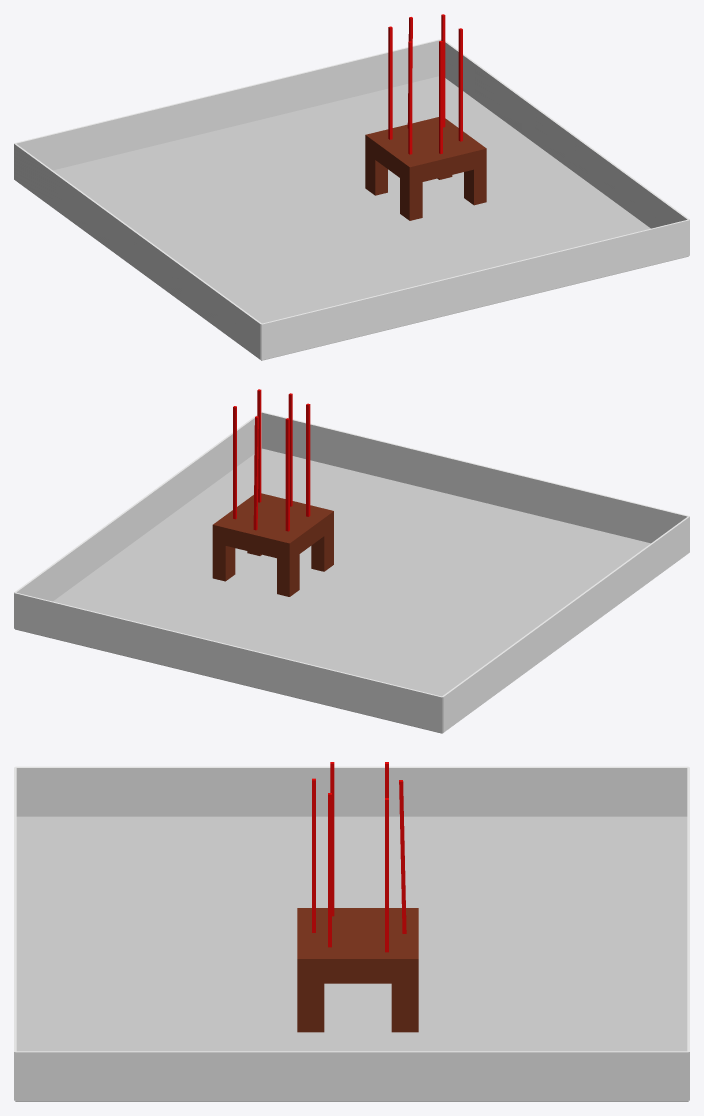
The picture shows the model from 3 angles, top to bottom: view 1: azimuth 30°, elevation 25°; view 2: azimuth 150°, elevation 25°; view 3: azimuth 270°, elevation 25°; orthographic projection. The views are drawn at different scales.
Parts seen in each view (by area): view 1: _dummylink0_ (×5), base (×7); view 2: _dummylink0_ (×5), base (×7); view 3: _dummylink0_ (×5), base (×8).
Boxes of the visible parts, x1,y1,x2,y2 form: _dummylink0_ (×5): (14, 39, 689, 360); base (×7): (365, 26, 486, 220); _dummylink0_ (×5): (14, 412, 689, 733); base (×7): (212, 403, 333, 596); _dummylink0_ (×5): (14, 766, 689, 1101); base (×8): (297, 762, 418, 1032).
Size of the model in its own units: 5.02 by 5.02 by 1.91.
